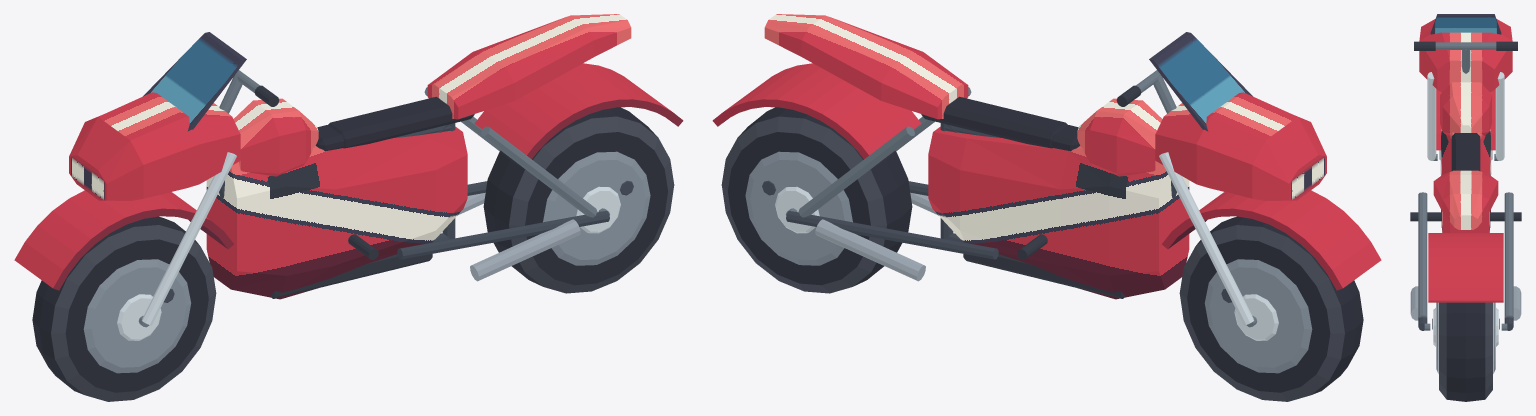
3 views of the same model, side by side, from view 1: azimuth 30°, elevation 25°; view 2: azimuth 150°, elevation 25°; view 3: azimuth 270°, elevation 25° (orthographic). The views are drawn at different scales.
Parts seen in each view (by area): view 1: Body_static, Wheel_F_tire_hub, Wheel_R_tire_hub; view 2: Body_static, Wheel_F_tire_hub, Wheel_R_tire_hub; view 3: Body_static, Wheel_R_tire_hub.
Part boxes in pixels (x1,y1,x2,y2): Body_static: (14, 14, 683, 327); Wheel_F_tire_hub: (32, 216, 216, 401); Wheel_R_tire_hub: (483, 107, 674, 293); Body_static: (712, 14, 1381, 327); Wheel_F_tire_hub: (1179, 216, 1363, 401); Wheel_R_tire_hub: (721, 107, 912, 293); Body_static: (1410, 14, 1521, 330); Wheel_R_tire_hub: (1432, 302, 1499, 401).
Size of the model in its own units: 54.03 by 26.61 by 10.78.
Materials: 1 (1 with a texture image).
